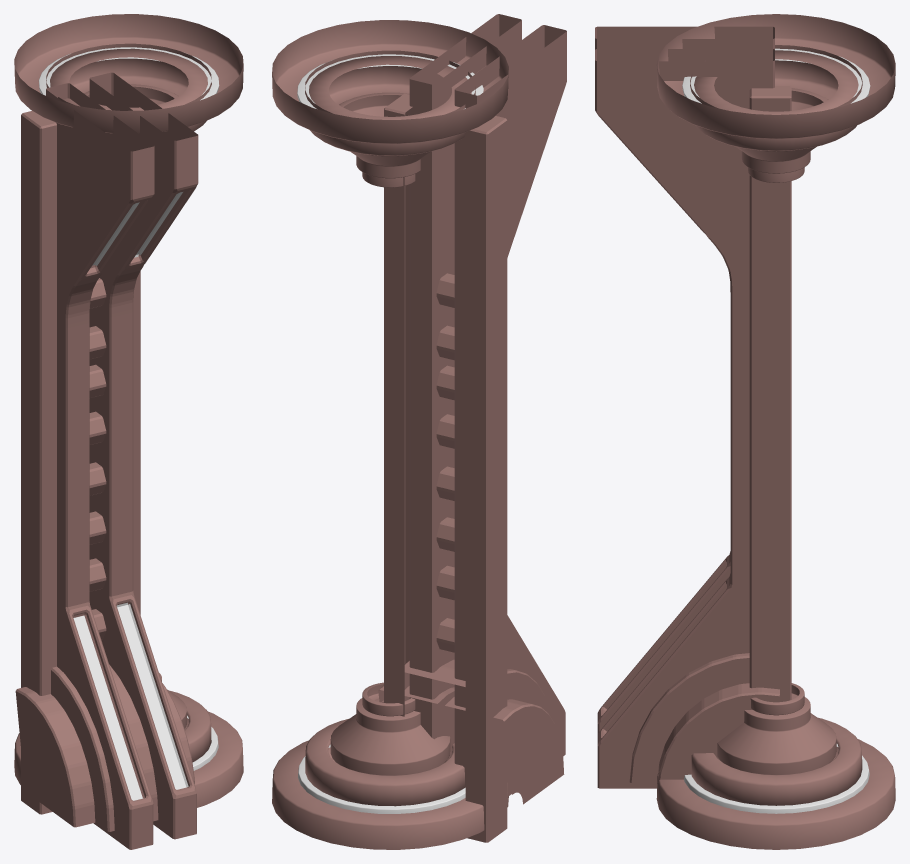
The model's file is corners.fbx.
3 renders of one model, left to right at view 1: azimuth 30°, elevation 25°; view 2: azimuth 150°, elevation 25°; view 3: azimuth 270°, elevation 25°, orthographic. The views are drawn at different scales.
Visible parts, largest first — view 1: Pilier_Corner, Angular_Pile; view 2: Pilier_Corner, Angular_Pile; view 3: Pilier_Corner, Angular_Pile.
Part boxes in pixels (x1=…): Pilier_Corner: x1=15, y1=72, x2=198, y2=849; Angular_Pile: x1=14, y1=14, x2=243, y2=807; Pilier_Corner: x1=378, y1=14, x2=566, y2=842; Angular_Pile: x1=272, y1=20, x2=508, y2=849; Pilier_Corner: x1=595, y1=26, x2=791, y2=792; Angular_Pile: x1=656, y1=14, x2=895, y2=849.
Size of the model in its own units: 255 by 829 by 302.
